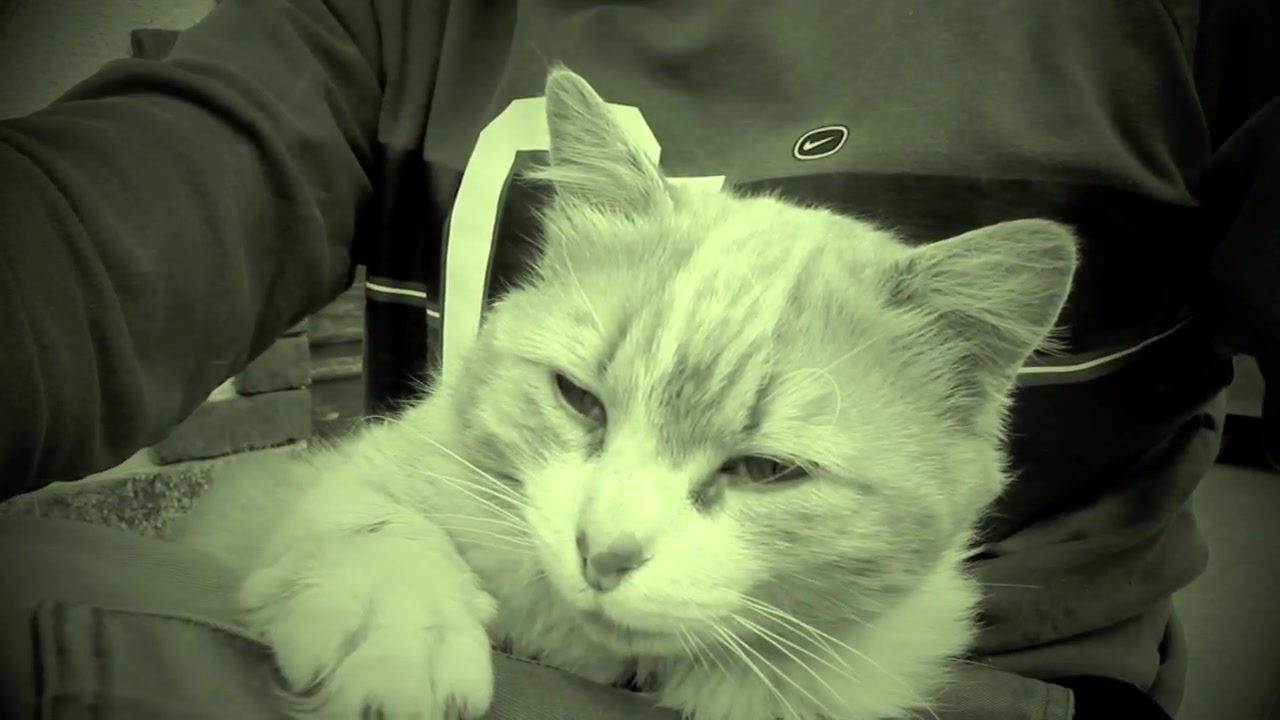cat: (184, 62, 1085, 720)
